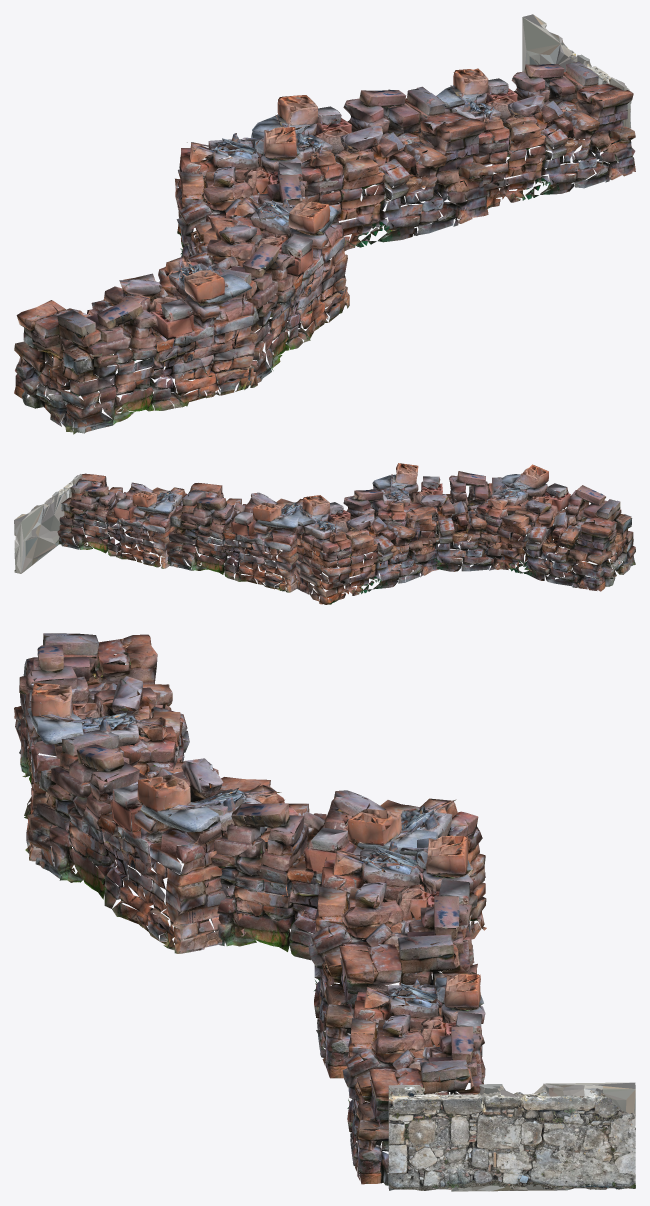
File: brick_bed.glb
3 renders of one model, top to bottom at view 1: azimuth 30°, elevation 25°; view 2: azimuth 150°, elevation 25°; view 3: azimuth 270°, elevation 25°, orthographic. The views are drawn at different scales.
Visible parts, largest first — view 1: Model.004, model_tex_u1_v1_0; view 2: Model.004, model_tex_u1_v1_0; view 3: Model.004, model_tex_u1_v1_0.
Boxes of the visible parts, x1,y1,x2,y2 form: Model.004: [14, 61, 635, 434]; model_tex_u1_v1_0: [522, 14, 632, 161]; Model.004: [57, 463, 635, 604]; model_tex_u1_v1_0: [14, 474, 82, 573]; Model.004: [14, 633, 486, 1185]; model_tex_u1_v1_0: [388, 1082, 635, 1191].
Size of the model in its own units: 35.73 by 5.91 by 21.31.
Materials: 4 (4 with a texture image).
